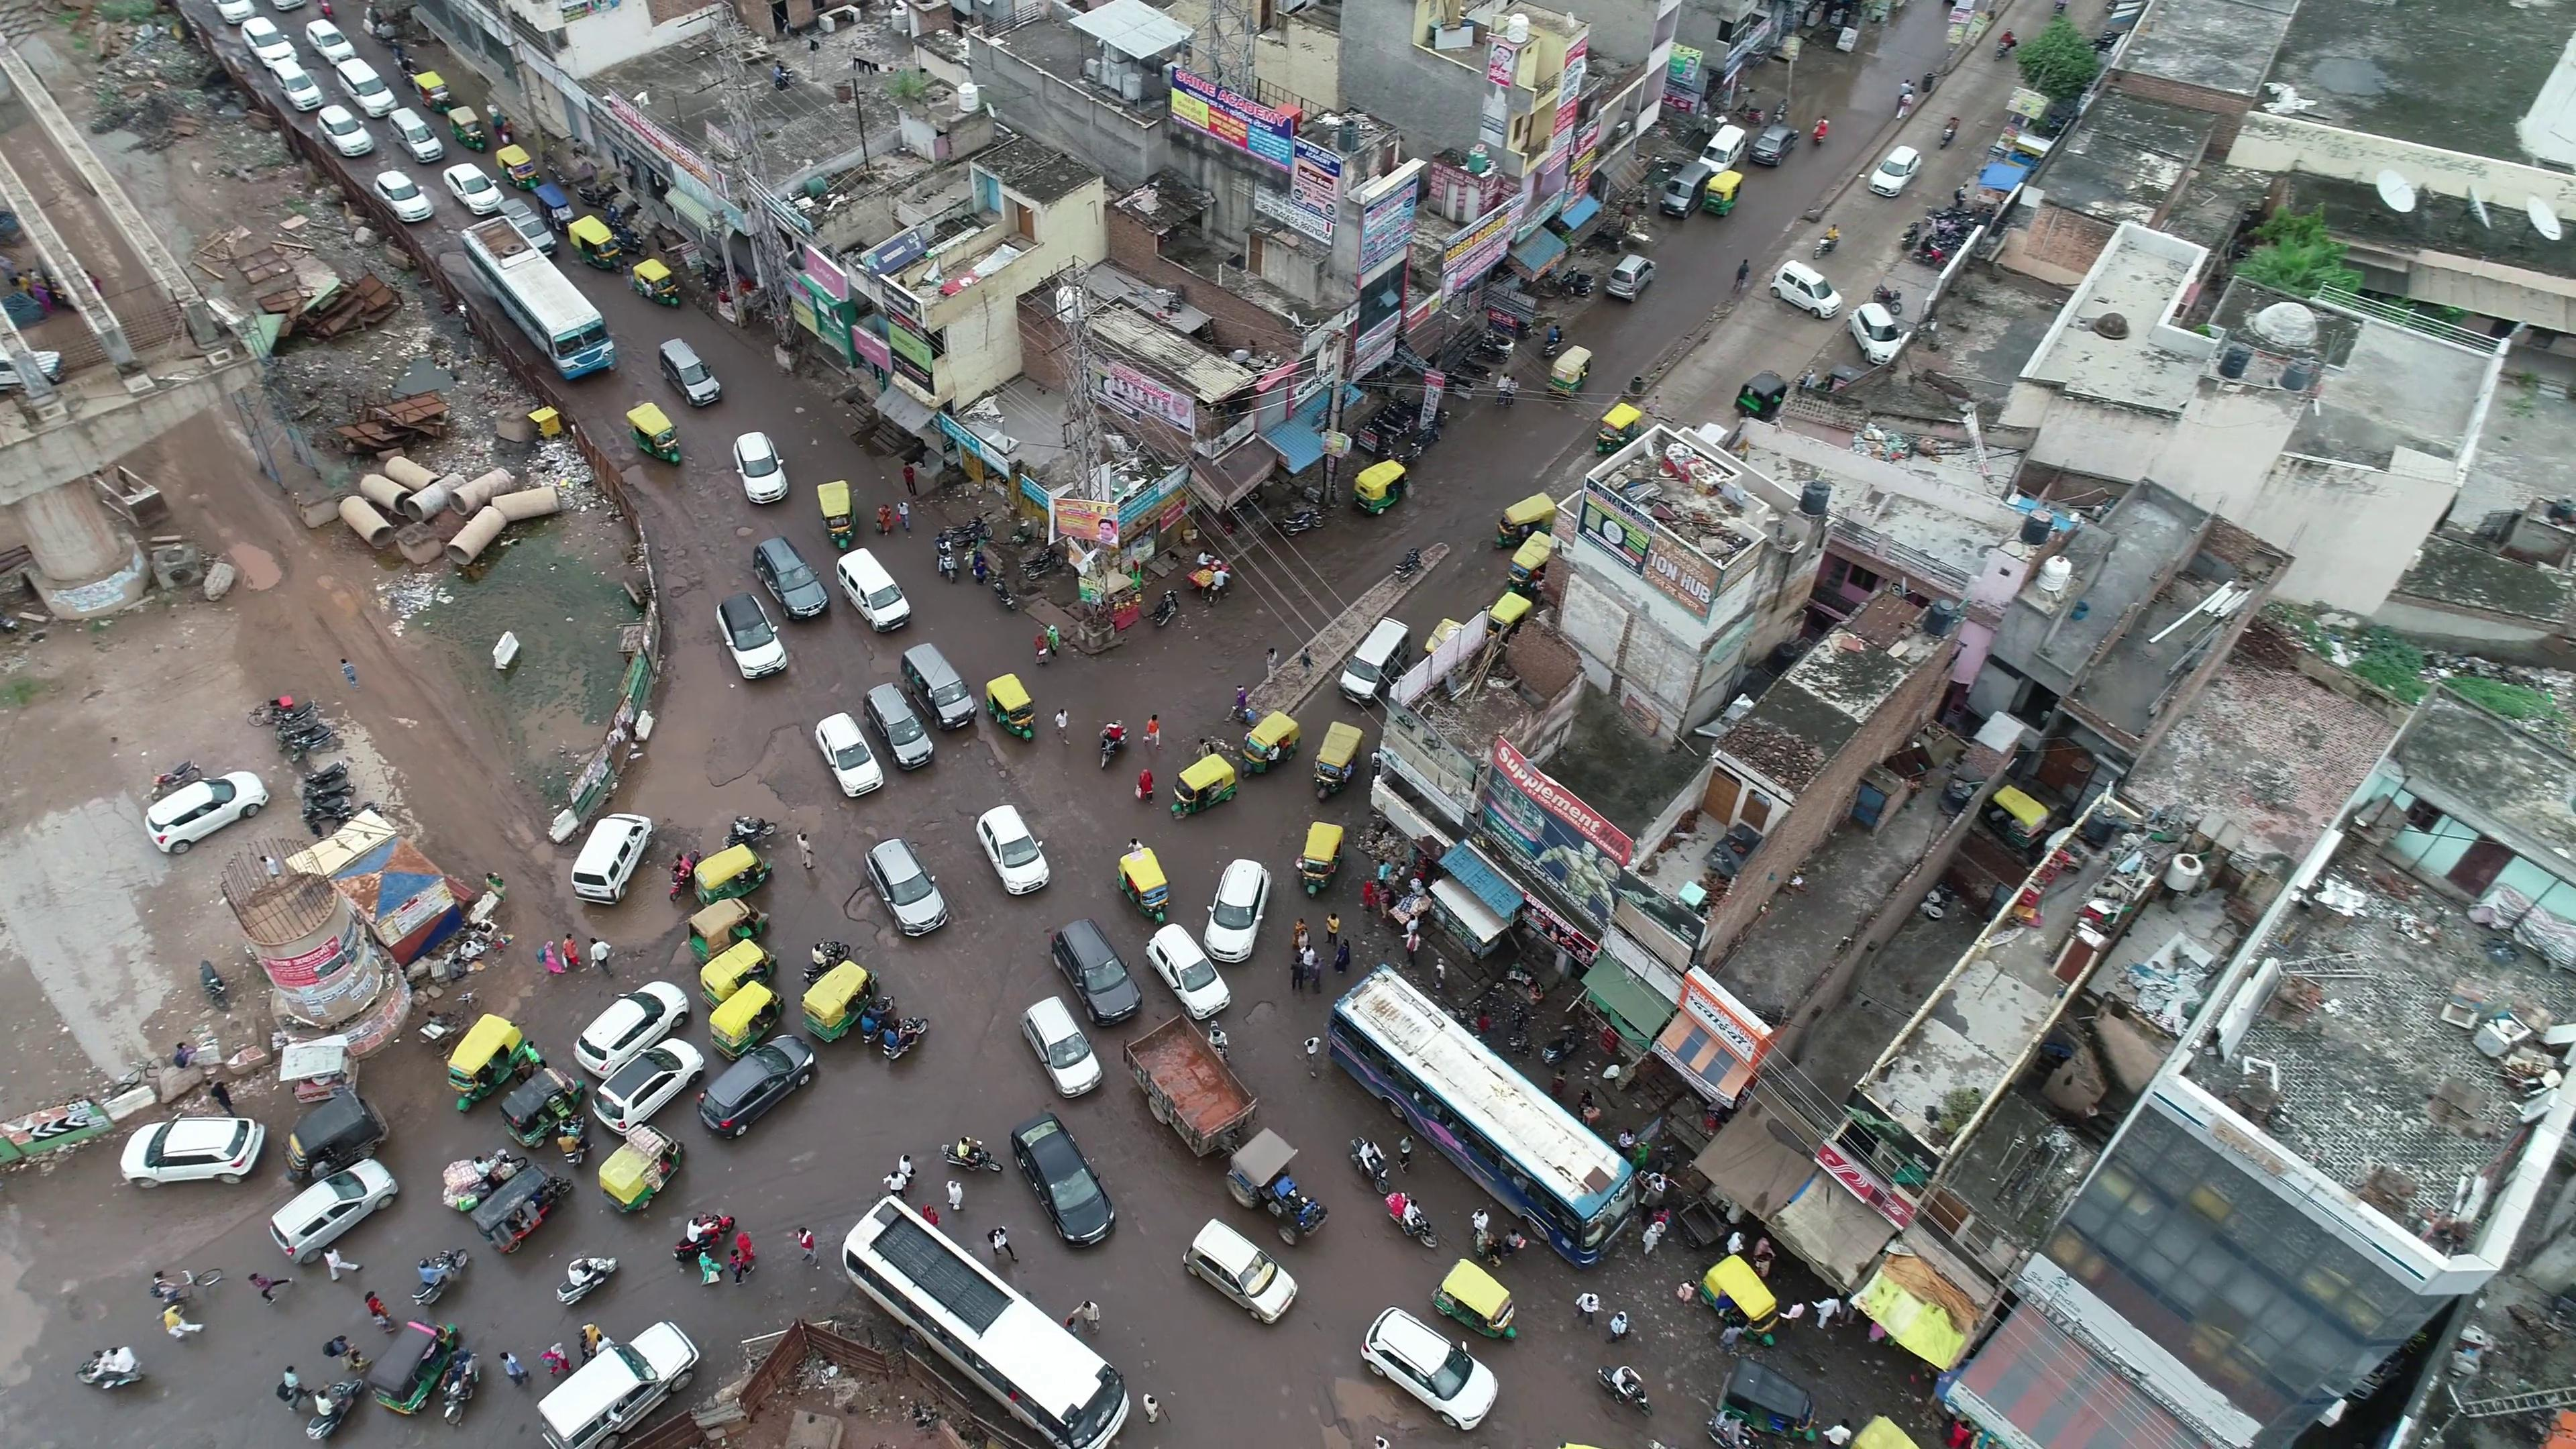Potholes: (962, 740, 1012, 791)
